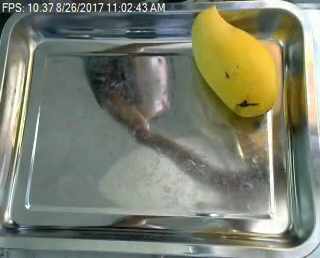Mango: (187, 0, 277, 121)
